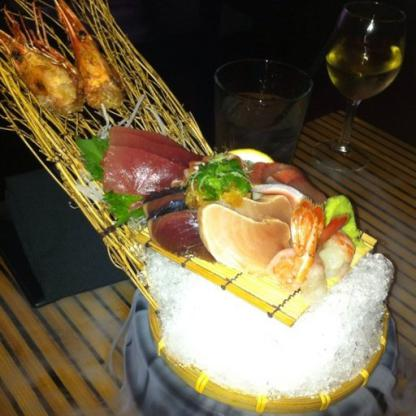tuna: (105, 126, 201, 195)
